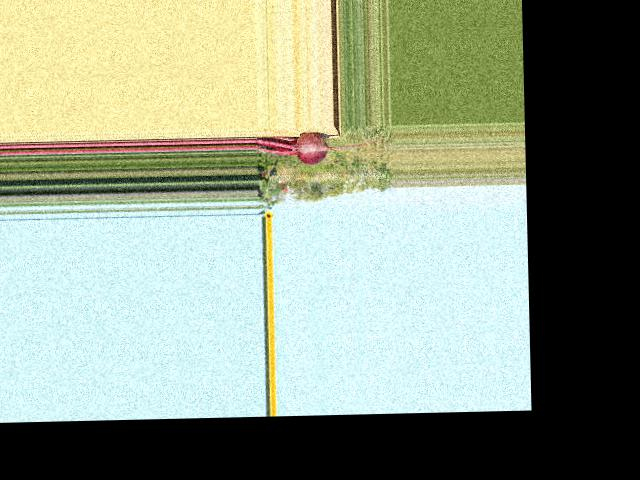beet: (255, 130, 387, 165)
